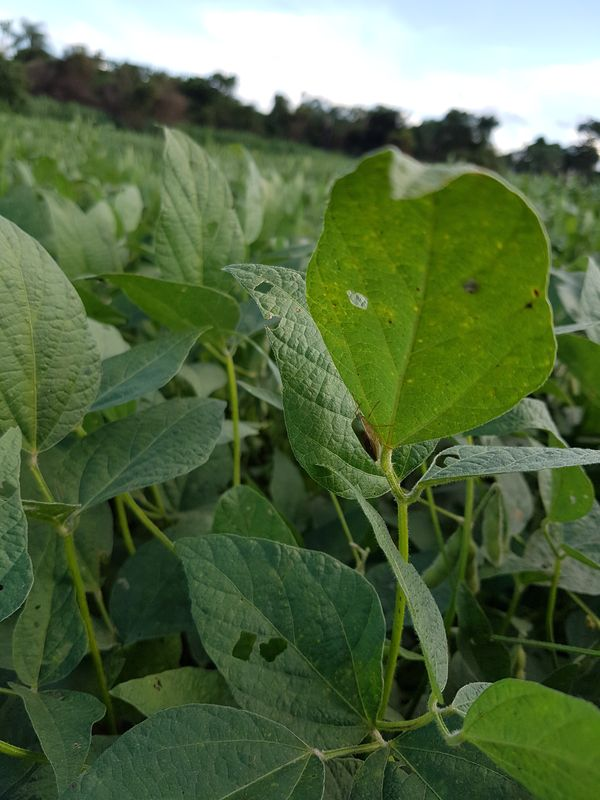Edessa_meditabunda: (338, 396, 397, 470)
